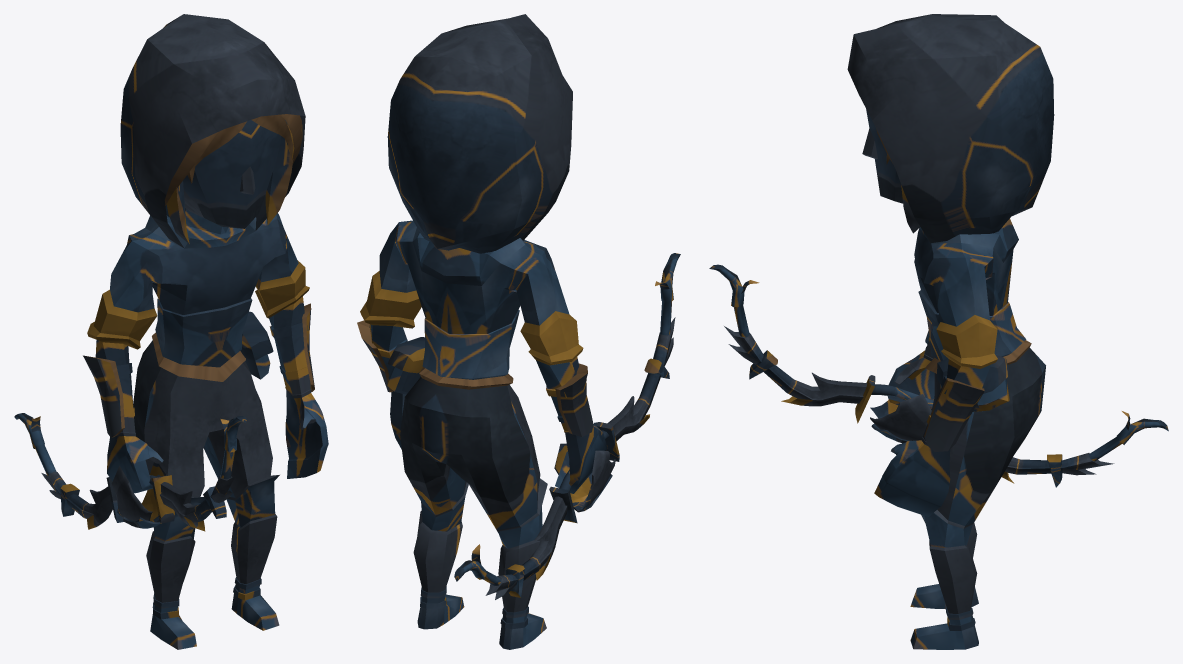
Rendered from ranger.glb.
3 views of the same model, side by side, from view 1: azimuth 30°, elevation 25°; view 2: azimuth 150°, elevation 25°; view 3: azimuth 270°, elevation 25° (orthographic).
Parts seen in each view (by area): view 1: Ranger_Cube.003, Cloak_Cube.000, Ranger_Bow_Cylinder.008, ArmGuard.R_Cube.004, Pouch_Cube.001, ArmGuard.L_Cube.002; view 2: Ranger_Cube.003, Cloak_Cube.000, Ranger_Bow_Cylinder.008, ArmGuard.R_Cube.004, Pouch_Cube.001, ArmGuard.L_Cube.002; view 3: Cloak_Cube.000, Ranger_Cube.003, Ranger_Bow_Cylinder.008, ArmGuard.L_Cube.002, Pouch_Cube.001.
Boxes of the visible parts, left/top/right/bottom form: Ranger_Cube.003: left=87, top=120, right=328, bottom=649; Cloak_Cube.000: left=120, top=14, right=305, bottom=248; Ranger_Bow_Cylinder.008: left=14, top=413, right=246, bottom=531; ArmGuard.R_Cube.004: left=83, top=355, right=124, bottom=437; Pouch_Cube.001: left=240, top=311, right=273, bottom=379; ArmGuard.L_Cube.002: left=302, top=303, right=314, bottom=391; Ranger_Cube.003: left=360, top=220, right=607, bottom=649; Cloak_Cube.000: left=387, top=14, right=572, bottom=253; Ranger_Bow_Cylinder.008: left=454, top=253, right=680, bottom=599; ArmGuard.R_Cube.004: left=555, top=363, right=593, bottom=436; Pouch_Cube.001: left=387, top=337, right=424, bottom=394; ArmGuard.L_Cube.002: left=357, top=320, right=393, bottom=392; Cloak_Cube.000: left=847, top=14, right=1054, bottom=242; Ranger_Cube.003: left=866, top=109, right=1045, bottom=649; Ranger_Bow_Cylinder.008: left=709, top=264, right=1168, bottom=487; ArmGuard.L_Cube.002: left=924, top=378, right=984, bottom=451; Pouch_Cube.001: left=937, top=355, right=1009, bottom=411.
Bounding box in the file's own units: 1.18 × 2.92 × 2.01.
2 materials, 2 textured.
